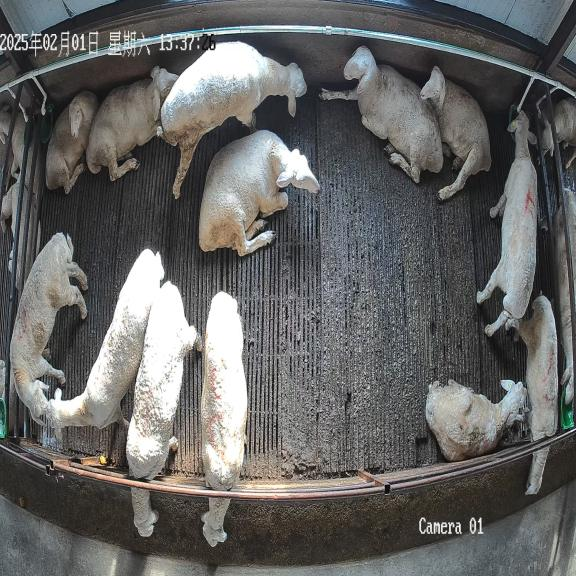drinking: (477, 111, 537, 336)
eating: (125, 281, 202, 536), (201, 291, 247, 547), (505, 295, 558, 495)
lying: (321, 45, 443, 182), (199, 130, 320, 256), (86, 67, 178, 180), (421, 66, 491, 200), (426, 380, 526, 461), (46, 90, 98, 192)
stand: (161, 42, 307, 198), (46, 248, 164, 440), (10, 233, 87, 424)
